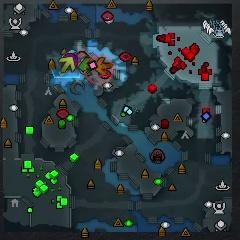p3: (62, 52, 78, 70)
x1: (77, 56, 97, 74)
x2: (59, 57, 75, 72)
x4: (79, 57, 93, 75)
x5: (95, 57, 112, 76)
